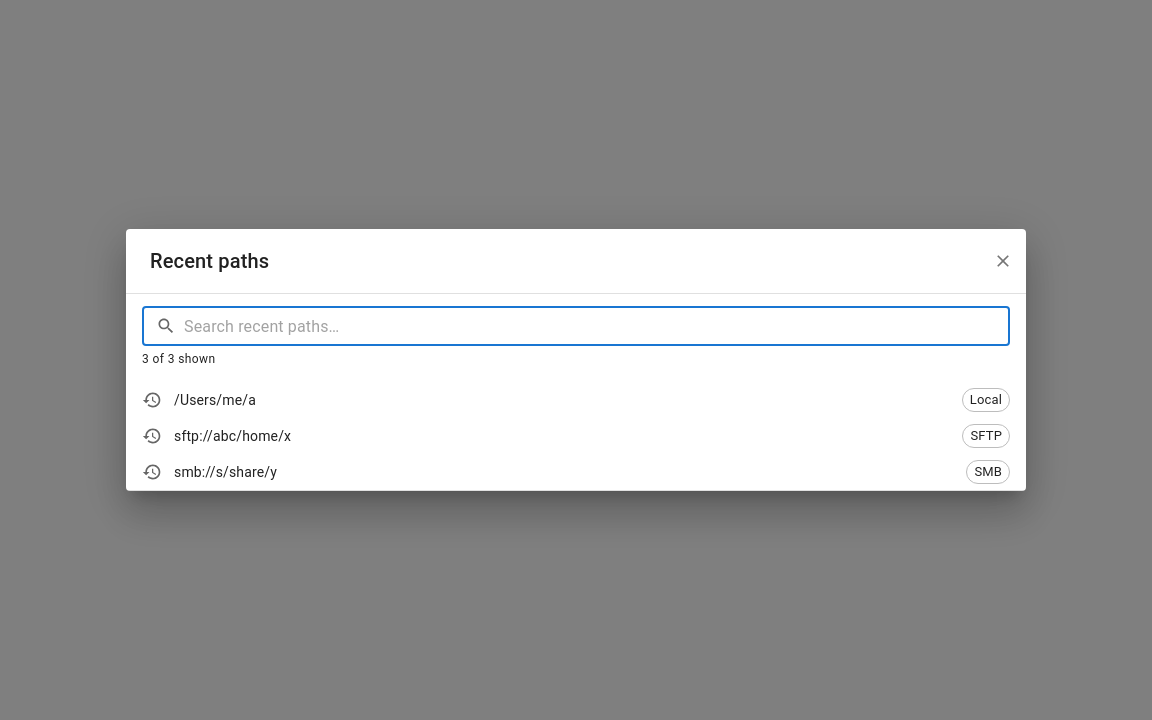
it: RecentPathsDialog › filters by substring case-insensitively
Type "smb" into the field with placeholder "Search recent paths…" at (597, 326), box [184,306,1010,346]
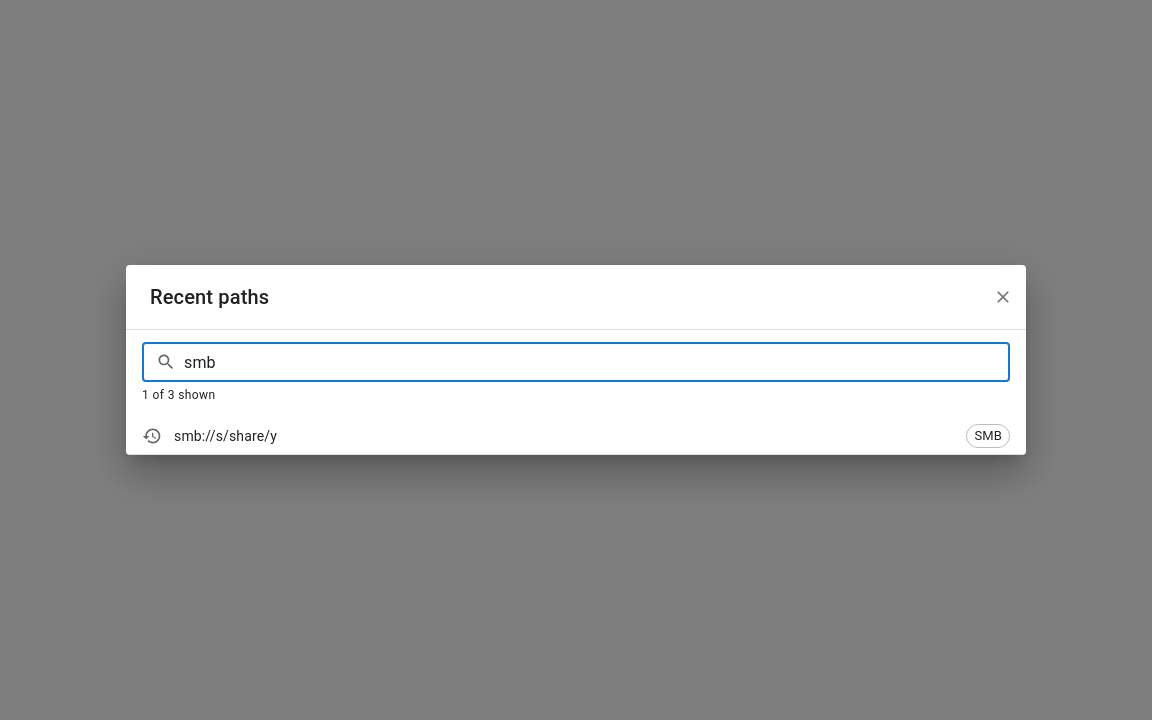
Expected: the text "smb://s/share/y" is shown, [174,428,277,444]
Result: the button "/Users/me/a" is gone
Result: the button "sftp://abc/home/x" is gone
